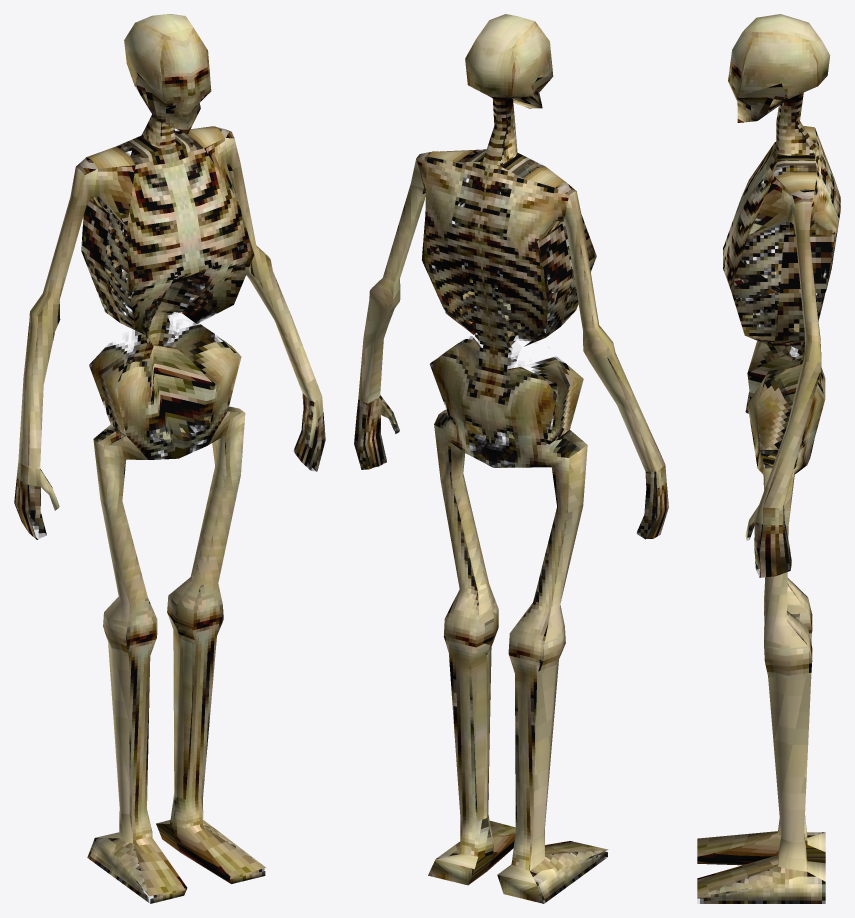
The model's file is SkeletonChar.glb.
The picture shows the model from 3 angles, left to right: view 1: azimuth 30°, elevation 25°; view 2: azimuth 150°, elevation 25°; view 3: azimuth 270°, elevation 25°; orthographic projection.
Parts seen in each view (by area): view 1: Cube; view 2: Cube; view 3: Cube.
Part boxes in pixels (box(x1,y1,x2,y2)): Cube: box(14, 14, 325, 903); Cube: box(354, 14, 668, 903); Cube: box(697, 14, 840, 903).
Size of the model in its own units: 0.734 by 1.98 by 0.2985.
Materials: 1 (1 with a texture image).
